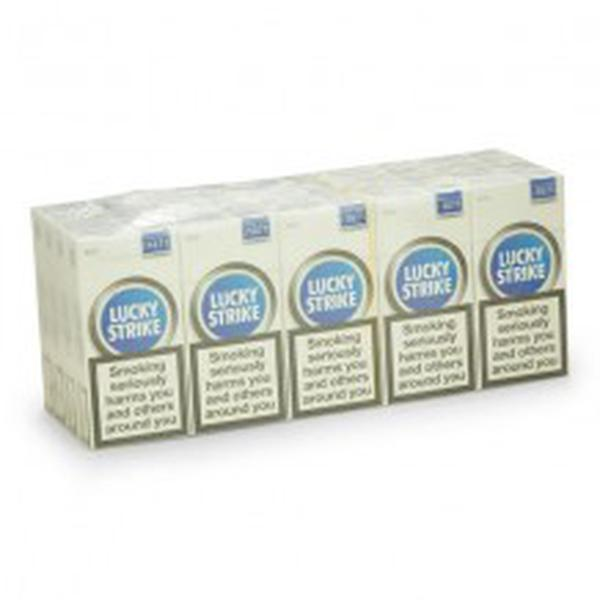lucky_strike_blue: (87, 237, 182, 434), (188, 226, 283, 422), (285, 212, 377, 409), (382, 196, 472, 397), (473, 189, 565, 377)
